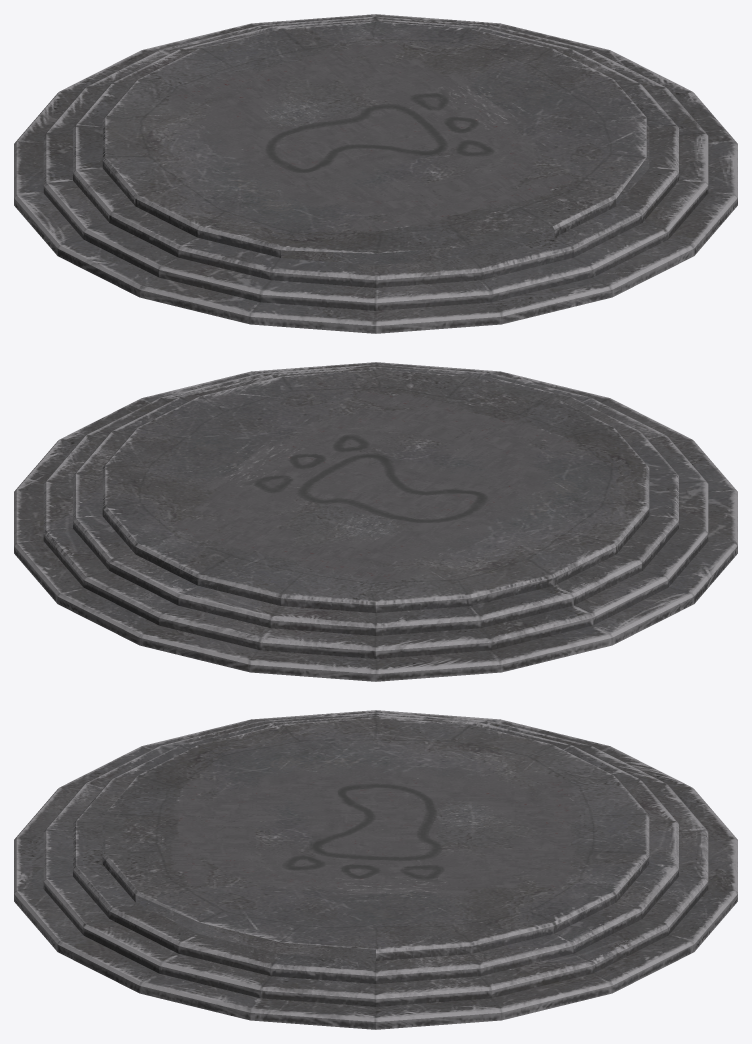
Rendered from pressurethingy.glb.
The picture shows the model from 3 angles, top to bottom: view 1: azimuth 30°, elevation 25°; view 2: azimuth 150°, elevation 25°; view 3: azimuth 270°, elevation 25°; orthographic projection.
Parts seen in each view (by area): view 1: Pyramid_Material.001_0.001, Pyramid_Material.001_0; view 2: Pyramid_Material.001_0.001, Pyramid_Material.001_0; view 3: Pyramid_Material.001_0.001, Pyramid_Material.001_0.
Part boxes in pixels (bbox=[...]): Pyramid_Material.001_0.001: bbox=[102, 21, 646, 257]; Pyramid_Material.001_0: bbox=[14, 14, 737, 333]; Pyramid_Material.001_0.001: bbox=[102, 369, 649, 612]; Pyramid_Material.001_0: bbox=[14, 362, 737, 681]; Pyramid_Material.001_0.001: bbox=[102, 717, 649, 960]; Pyramid_Material.001_0: bbox=[14, 710, 737, 1029].
Size of the model in its own units: 6.5 by 0.4 by 6.4.
1 material, 1 textured.
